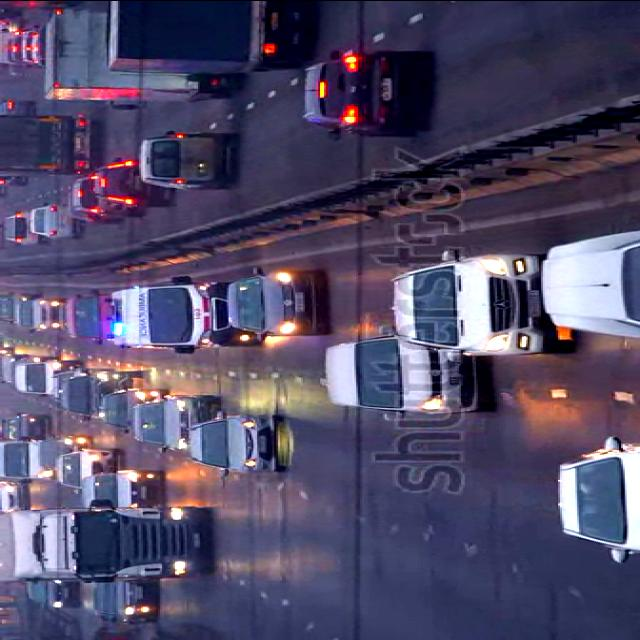ambulance: (108, 275, 264, 351)
